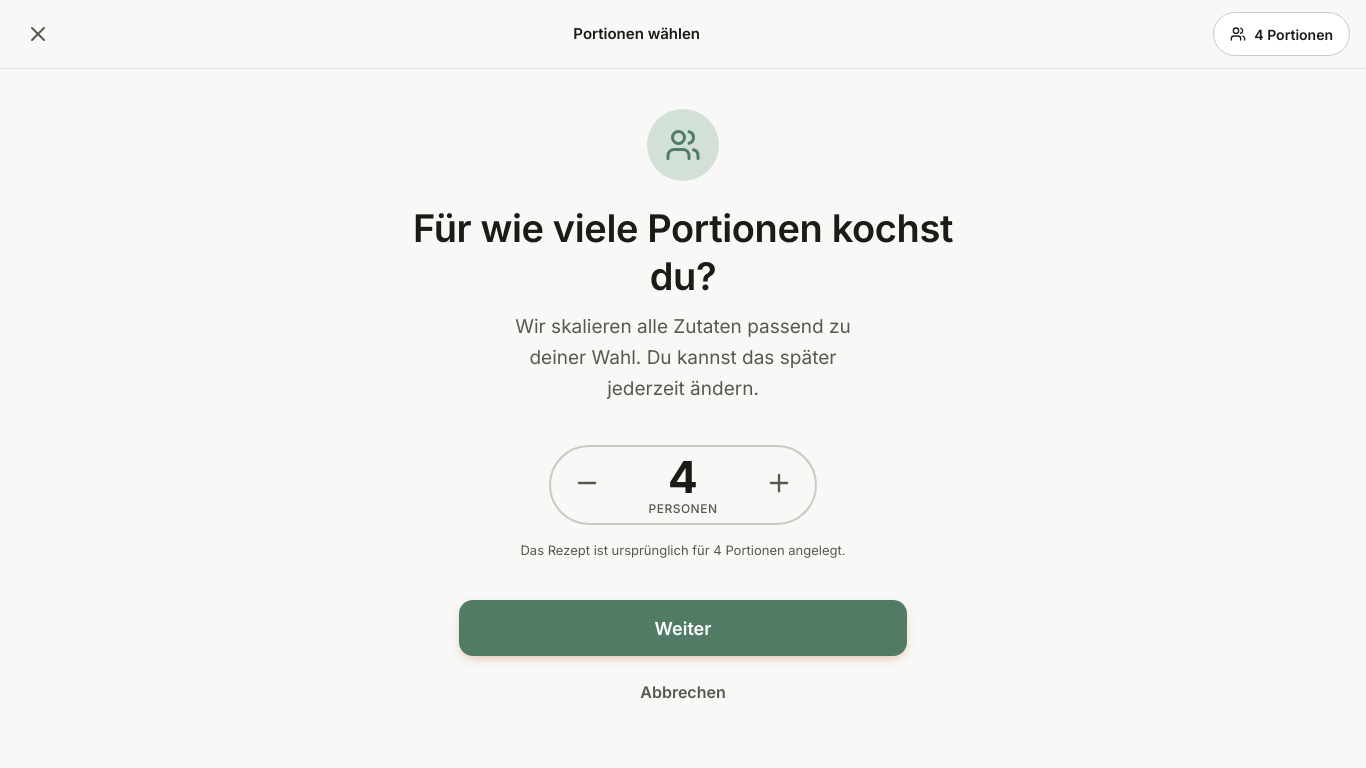
Test case: CookModePage — exit confirmation › X-close opens the confirm dialog
expect the element with test id "cook-portions-picker" is shown: met, box [413,109,953,716]
Click the button named "Kochmodus schliessen": click(38, 34) [16,12,60,56]
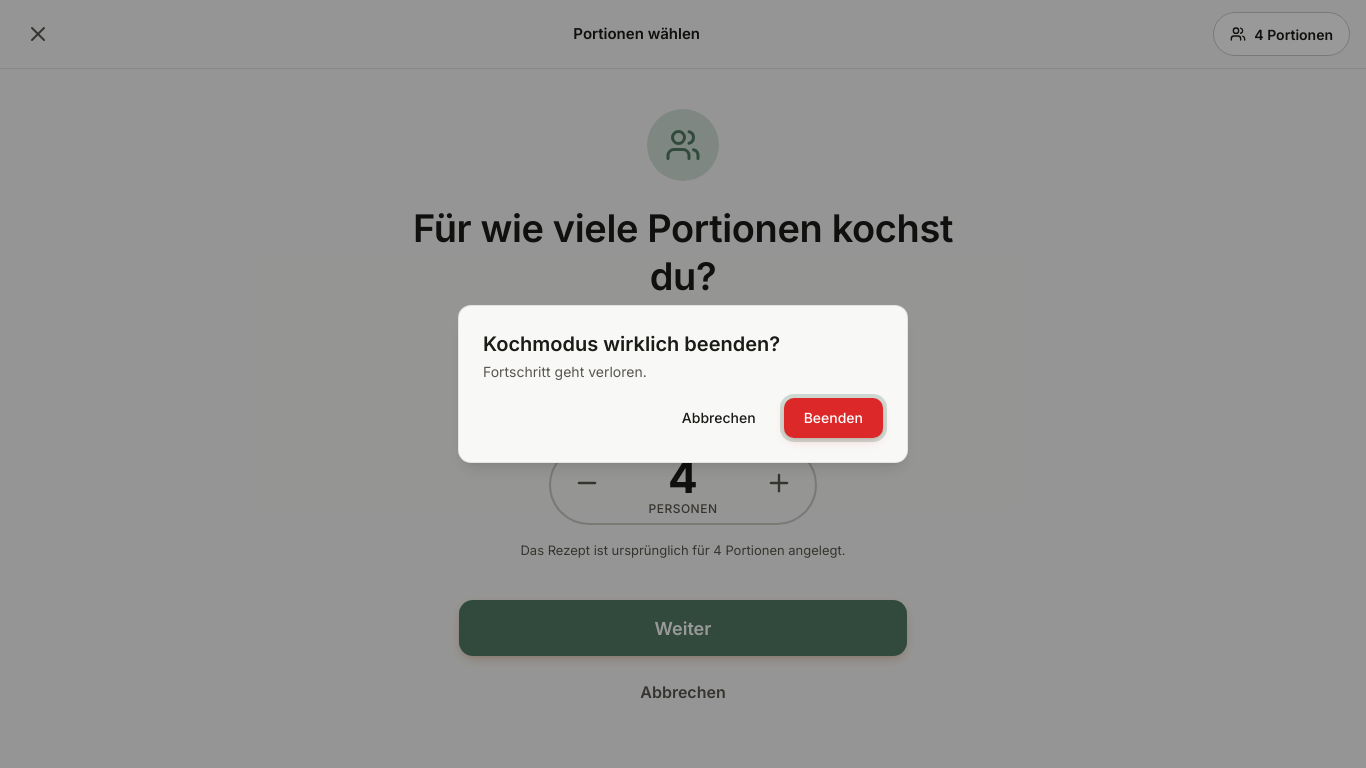
expect the heading "Kochmodus wirklich beenden?" is shown: met, box [483,332,780,356]
